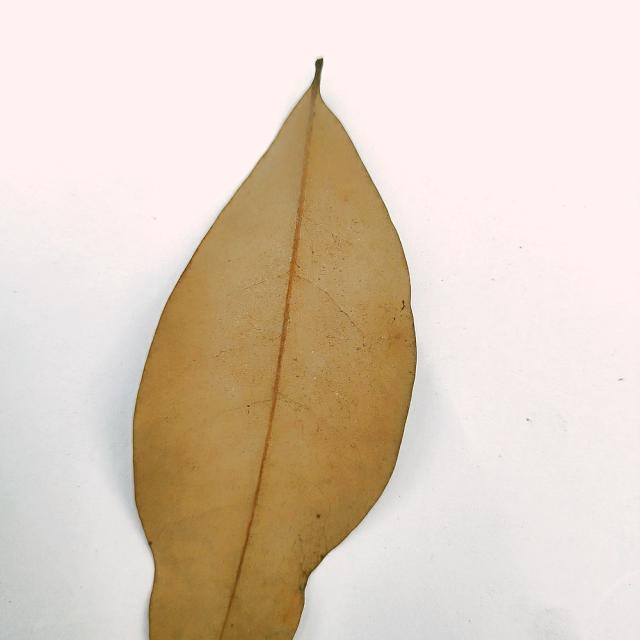Dry_Leaf-Lychee: (131, 63, 418, 639)
